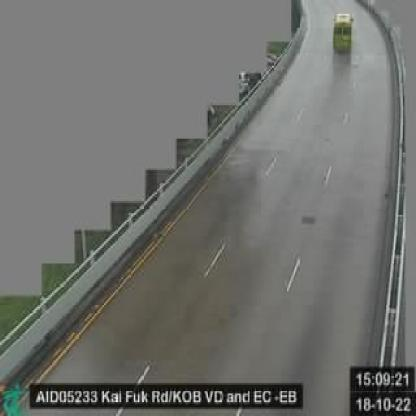Car: (333, 9, 354, 54)
